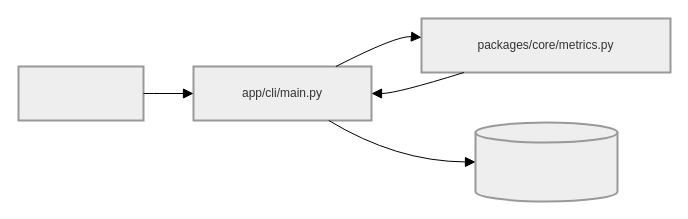
The diagram is 688 pixels wide and 219 high, and some of its shapes have lost their labels. The centre of each missing label's shape, as x and y in pixels:
Reviewer: the point at 80,93
sample_data.json: the point at 546,161
